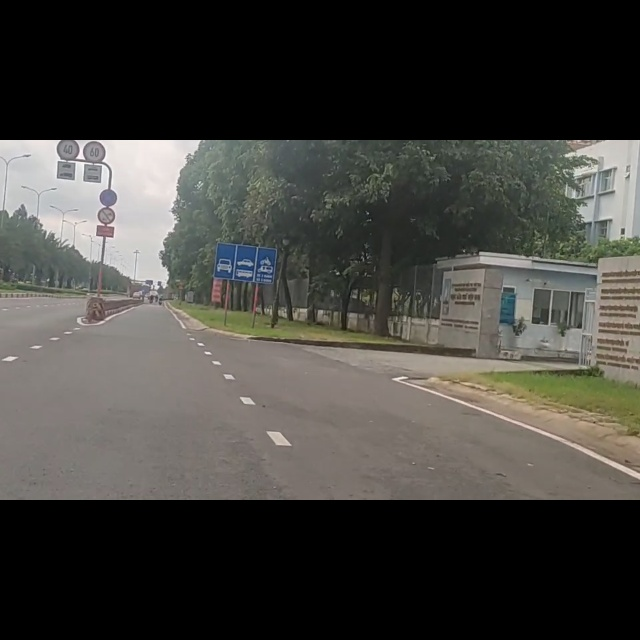bien_chi_dan: (213, 178, 277, 256), (83, 2, 107, 38), (56, 2, 79, 34), (95, 119, 117, 152), (98, 84, 119, 116)
